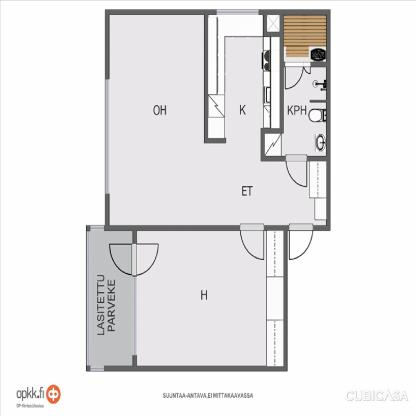door: (138, 230, 285, 366), (88, 229, 133, 367), (104, 239, 166, 280), (287, 221, 314, 263), (240, 223, 266, 263), (285, 152, 311, 192), (283, 63, 302, 91), (301, 63, 310, 74)
window: (105, 82, 109, 193), (216, 6, 259, 16), (91, 367, 103, 374), (91, 226, 104, 232)
zone: (109, 13, 326, 226), (284, 68, 324, 156), (282, 12, 326, 64)
